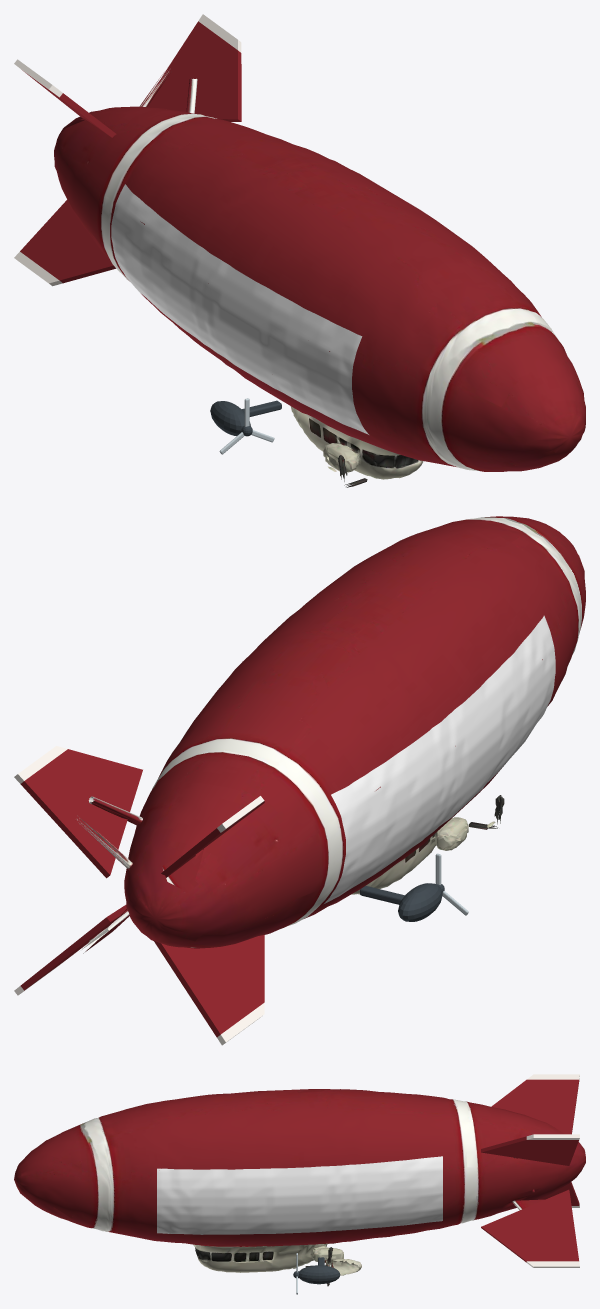
Rendered from dirigivel-1.glb.
3 renders of one model, top to bottom at view 1: azimuth 30°, elevation 25°; view 2: azimuth 150°, elevation 25°; view 3: azimuth 270°, elevation 25°, orthographic. The views are drawn at different scales.
Visible parts, largest first — view 1: Frota_blimp, HullBanner_L, Engine_L; view 2: Frota_blimp, HullBanner_L, Engine_L; view 3: Frota_blimp, HullBanner_R, Engine_R.
Part boxes in pixels (bbox=[...]): Frota_blimp: bbox=[14, 14, 585, 487]; HullBanner_L: bbox=[111, 184, 368, 434]; Engine_L: bbox=[210, 401, 250, 436]; Frota_blimp: bbox=[14, 516, 585, 1045]; HullBanner_L: bbox=[324, 615, 555, 903]; Engine_L: bbox=[398, 883, 442, 921]; Frota_blimp: bbox=[14, 1074, 585, 1286]; HullBanner_R: bbox=[157, 1156, 442, 1234]; Engine_R: bbox=[299, 1265, 340, 1284].
Bounding box in the file's own units: 6.92 × 8.1 × 24.
4 materials, 1 textured.
